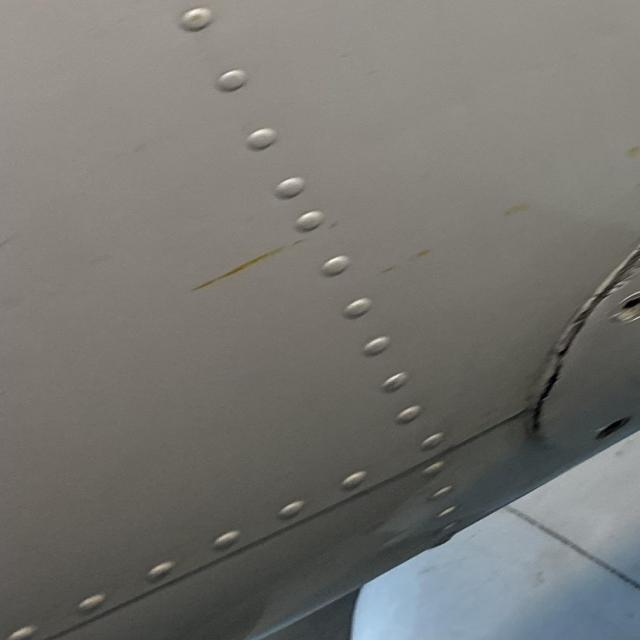Crack: (520, 291, 602, 438)
Missing-head: (611, 293, 640, 326)
